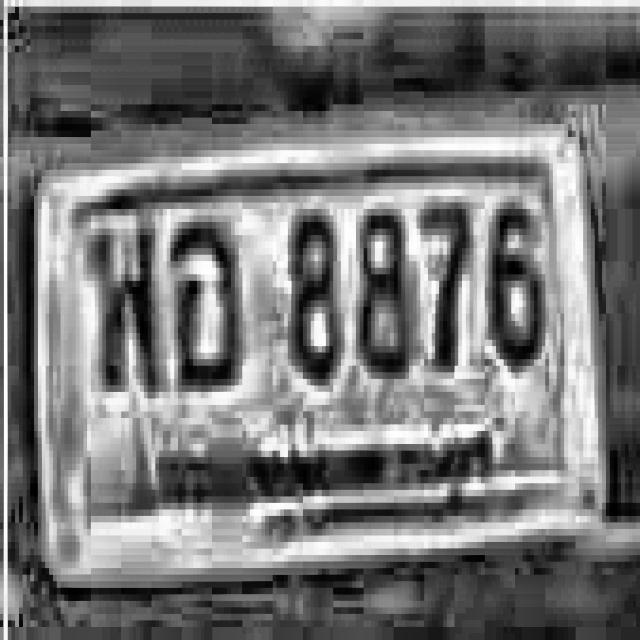license-plate: (15, 108, 617, 610)
